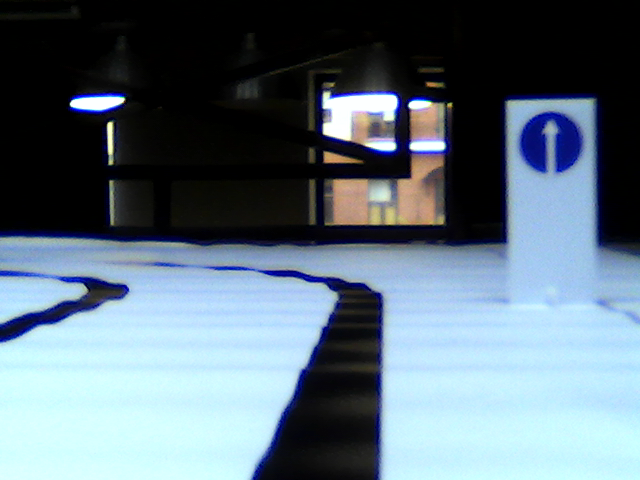forw: (518, 109, 585, 179)
